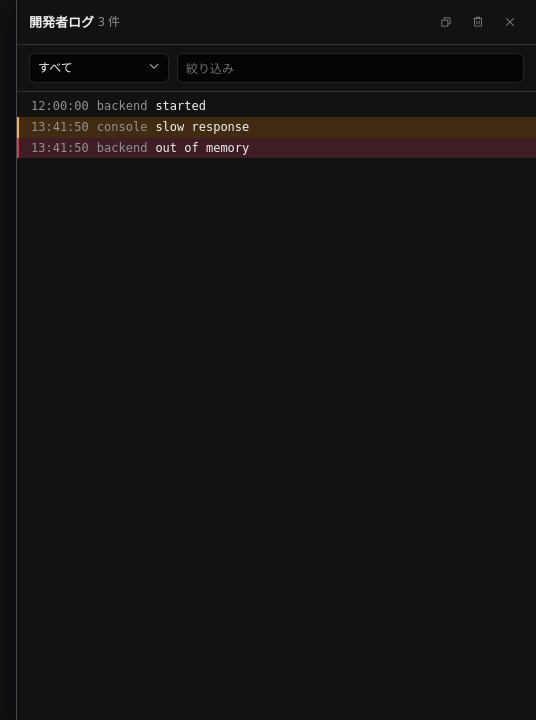
Test: DevLogPanel › lists the lines with their source and filters them by text
Expected: the number of elements with test id "devlog-row" is 3, [31,99,206,113]; [17,117,535,138]; [17,138,535,158]
Step 1. Type "CONSOLE" into the field with placeholder "絞り込み" → (350, 68), box [177,53,524,83]
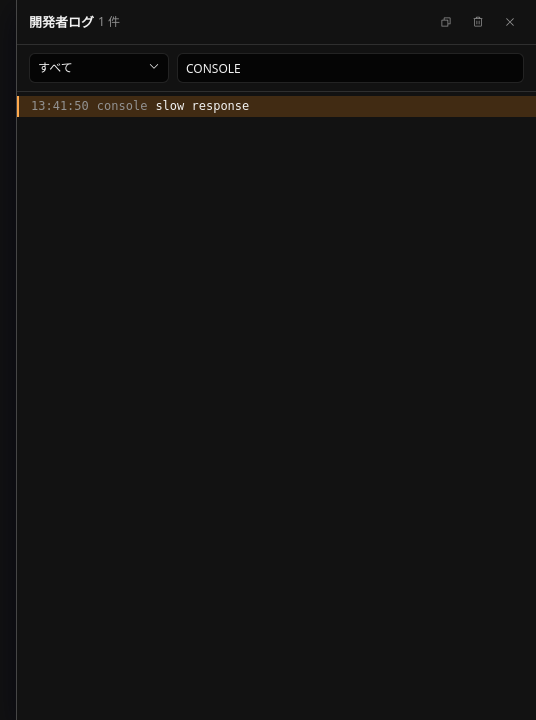
Result: the number of elements with test id "devlog-row" is 1 at [17,96,535,117]
Step 2. Replace the text in the field with placeholder "絞り込み" with "memory" → (350, 68), box [177,53,524,83]
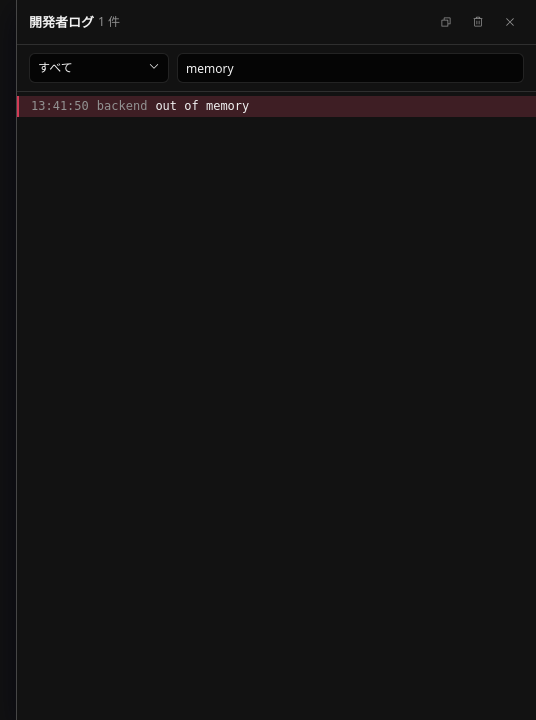
Result: the text "out of memory" is shown at [155,99,249,113]
Step 3. Replace the text in the field with placeholder "絞り込み" with "nothing like this" → (350, 68), box [177,53,524,83]
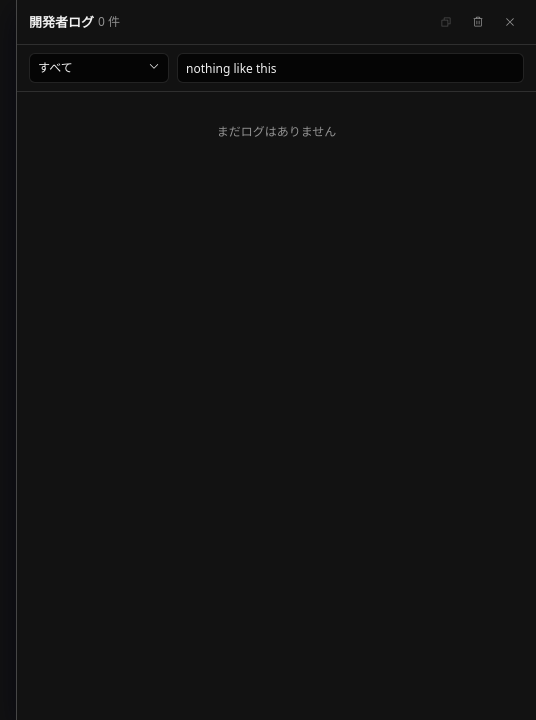
Result: the text "まだログはありません" is shown at [217,125,336,139]
